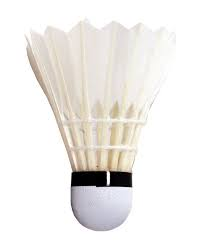shuttle: (19, 15, 177, 234)
